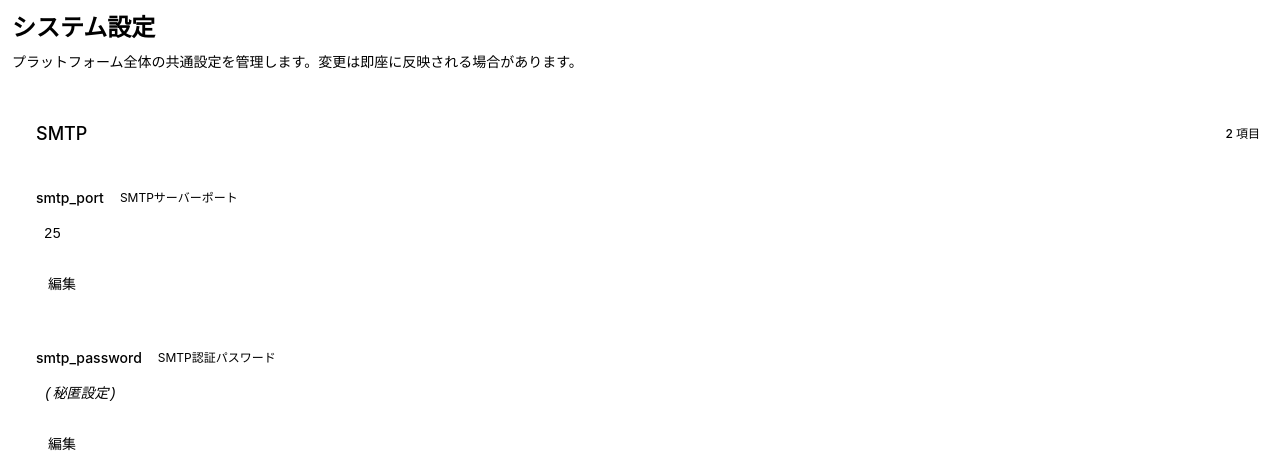
Test: SystemSettingsPage › 数値設定は編集時に数値入力欄になる
Click the text "25".
click(52, 234)  # box [44,226,61,242]
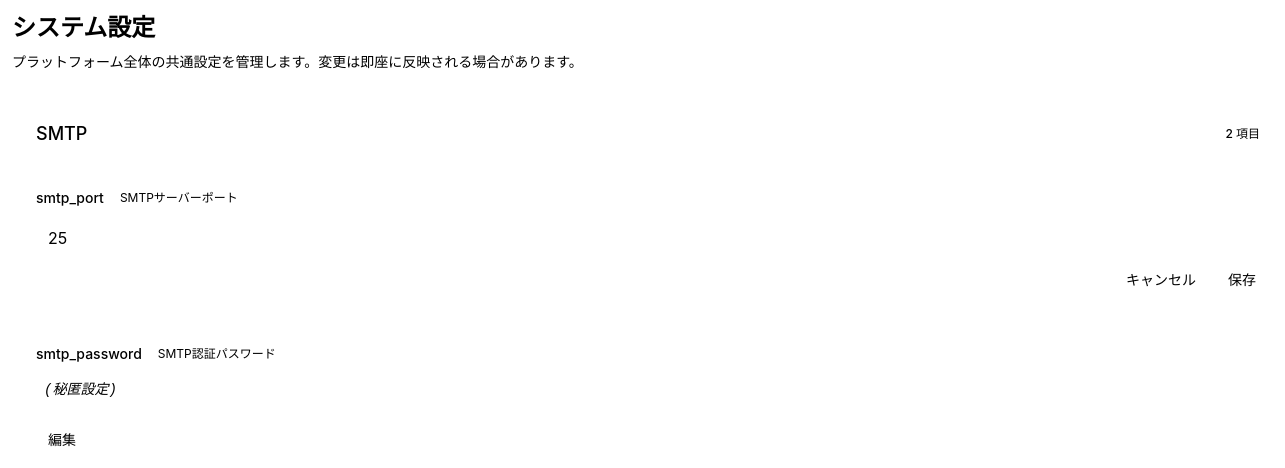
Expected: the number field is shown, [36,220,1268,256]
